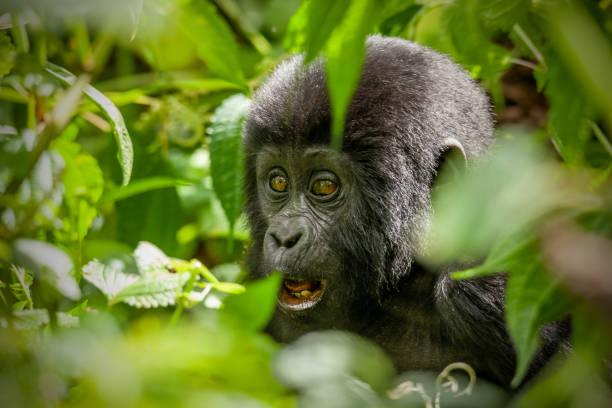goriile_montagne: (219, 15, 513, 364)
